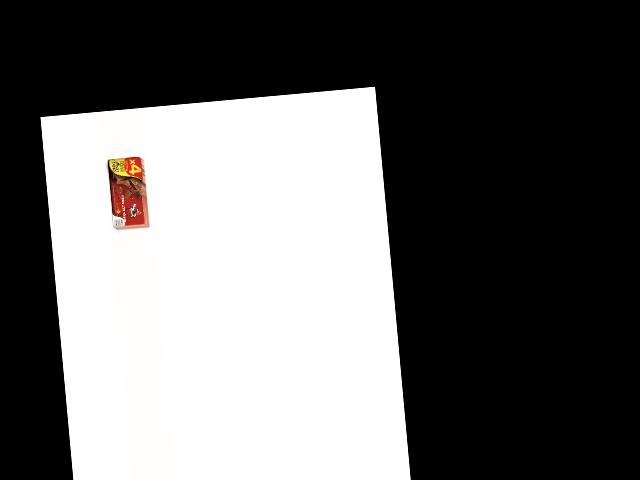chocolate: (105, 155, 149, 229)
